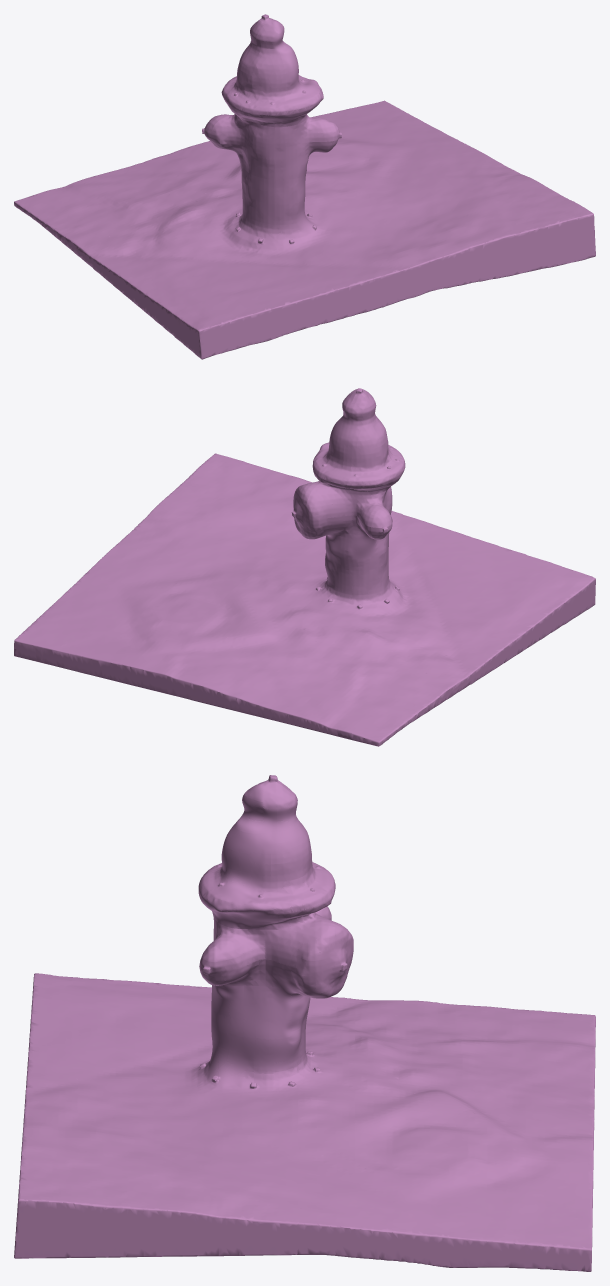
3 renders of one model, top to bottom at view 1: azimuth 30°, elevation 25°; view 2: azimuth 150°, elevation 25°; view 3: azimuth 270°, elevation 25°, orthographic. The views are drawn at different scales.
Parts seen in each view (by area): view 1: split_parent_0; view 2: split_parent_0; view 3: split_parent_0.
Boxes of the visible parts, x1,y1,x2,y2 form: split_parent_0: (14,14,595,359); split_parent_0: (14,388,595,746); split_parent_0: (14,775,595,1271).
Size of the model in its own units: 1 by 0.5985 by 0.9291.
